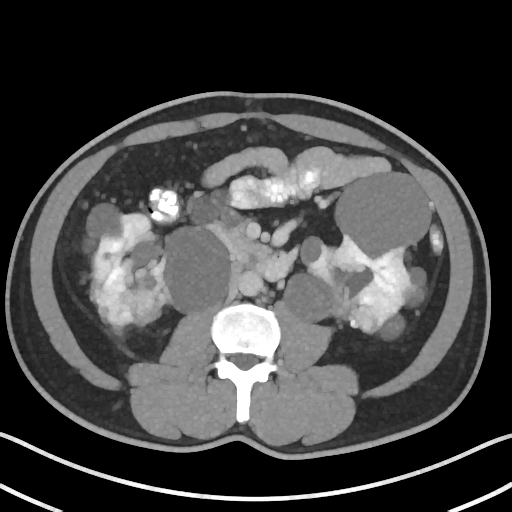Lesion: (351, 304, 380, 338)
